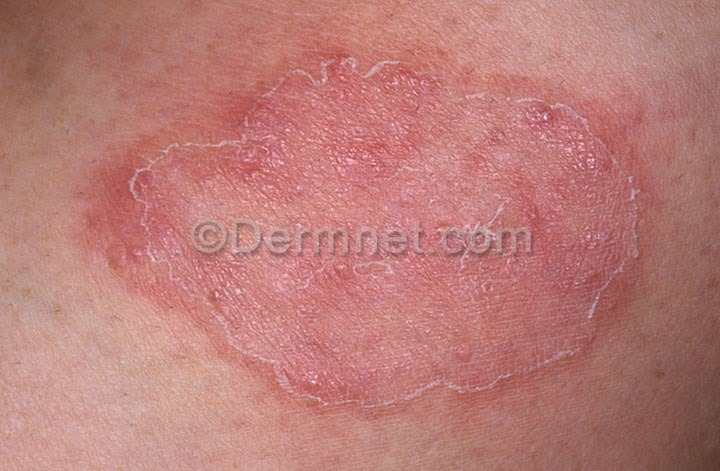Ringworm: (103, 25, 665, 431)
